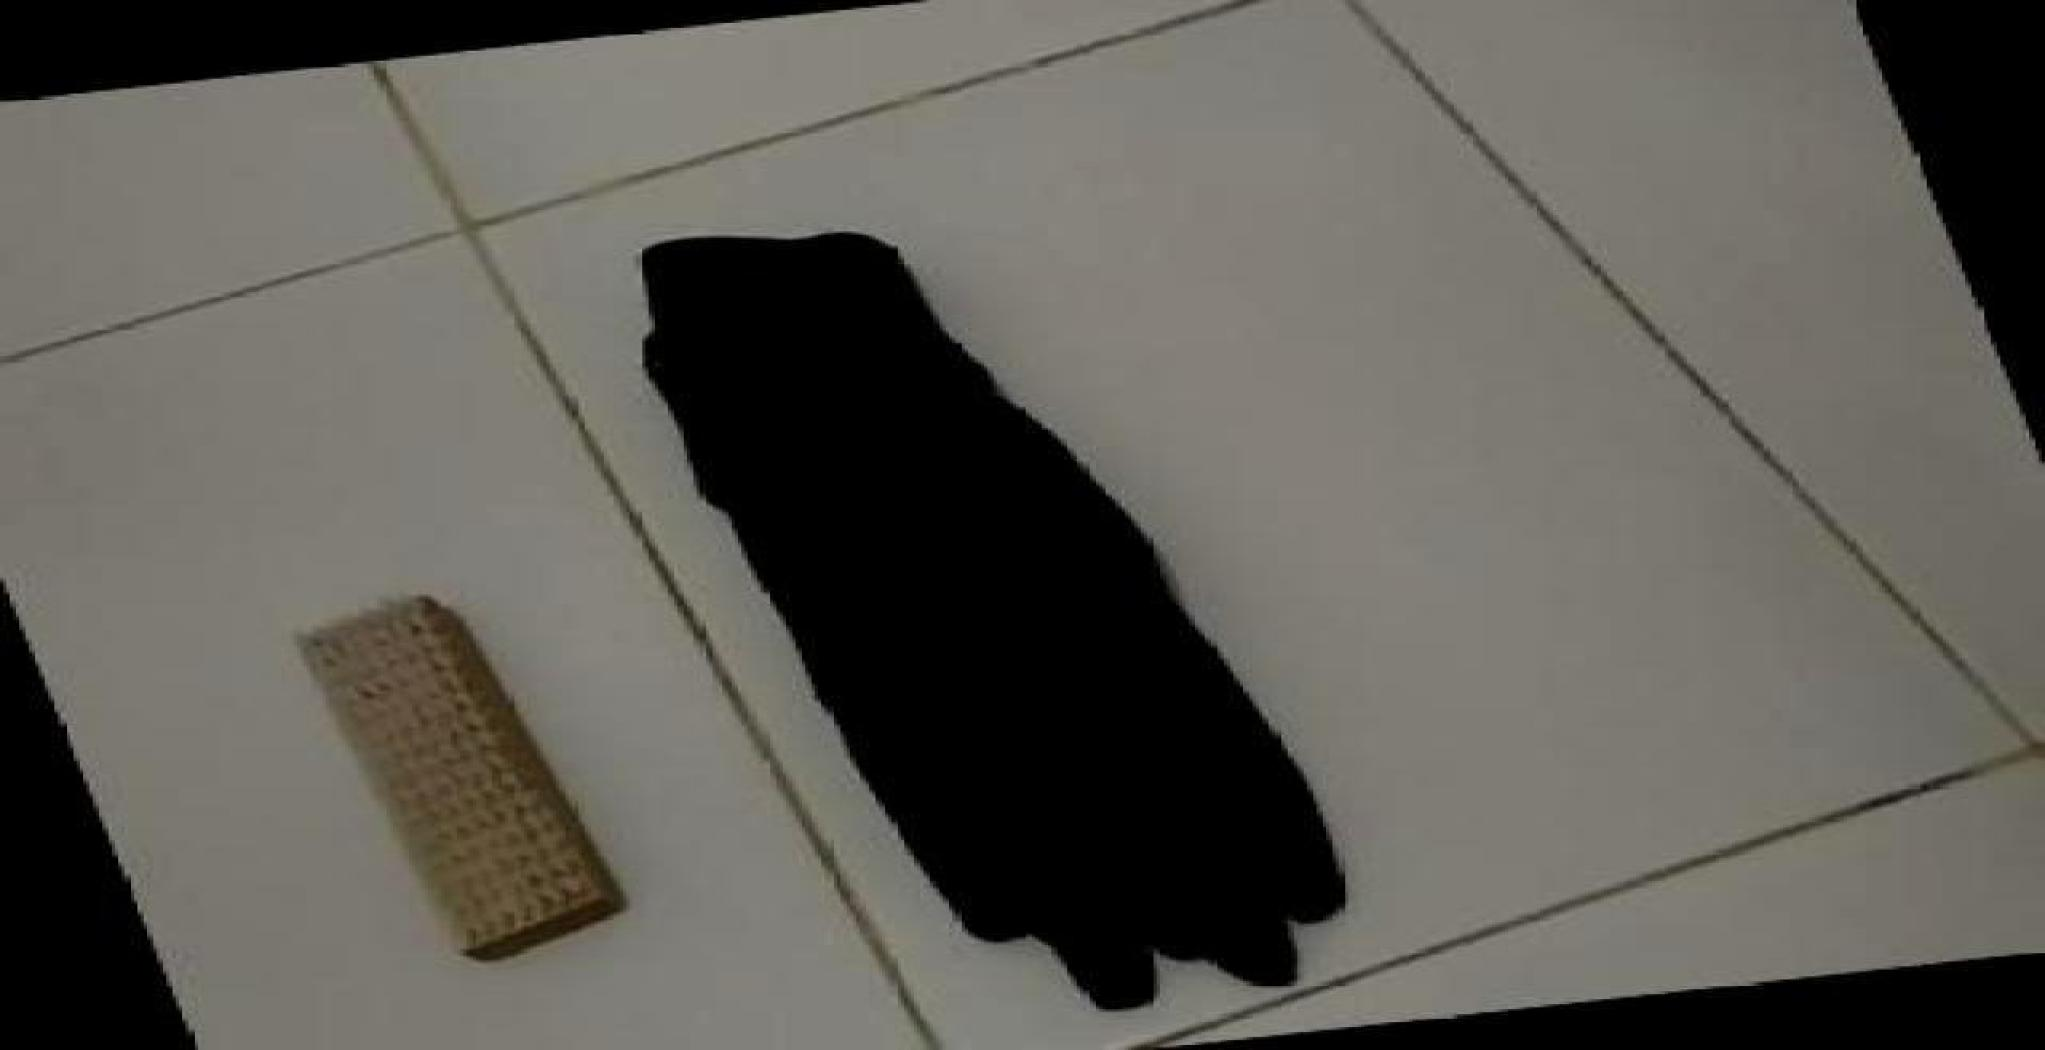gloved: (636, 229, 1349, 1011)
